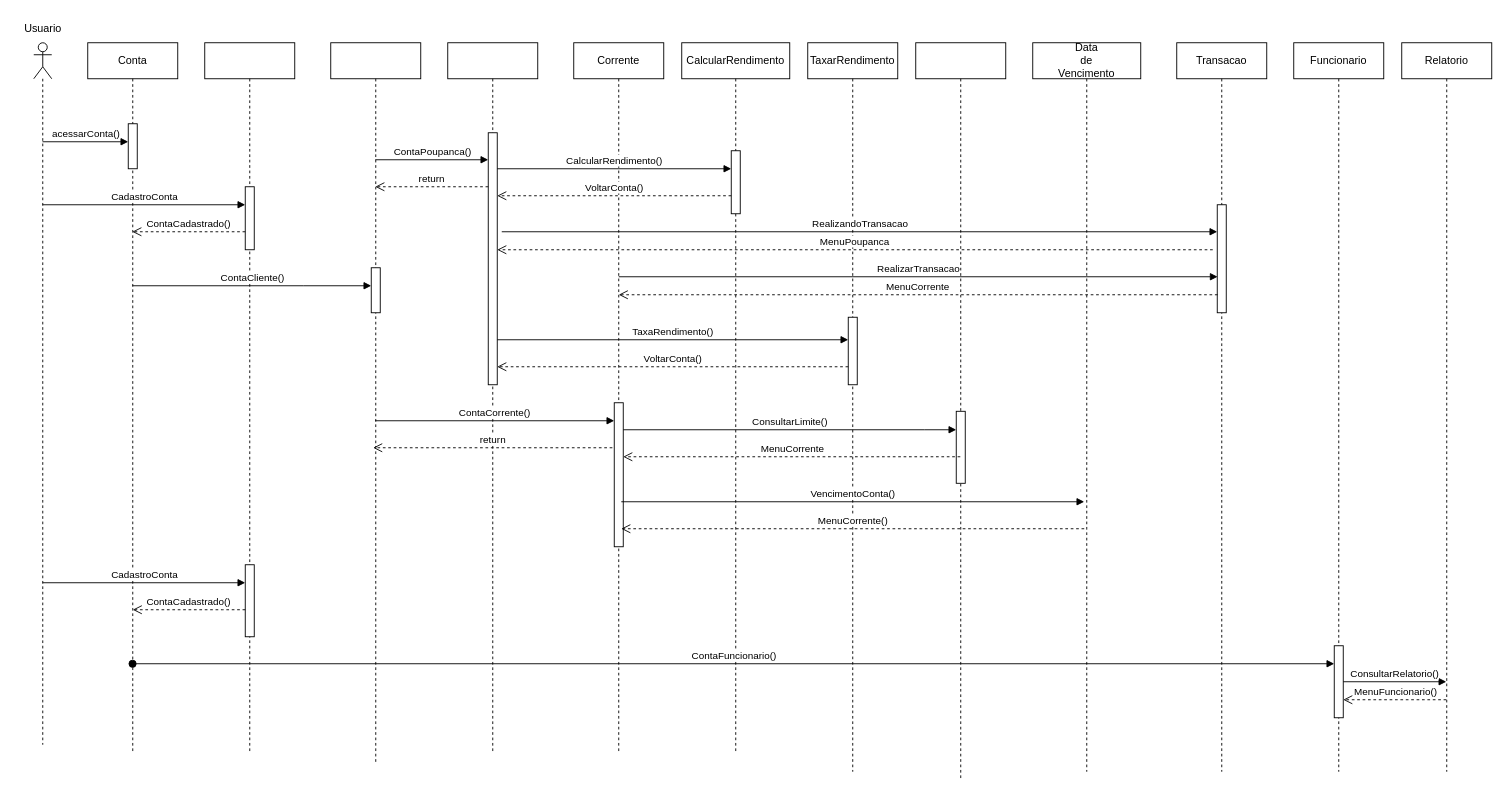
Some shapes in this 1508 by 797 pixel diagram are drawn without their labels. Here are the shapes that lost their labels. From the top down, the box of each, then its label:
(204, 42, 295, 754): CriarConta
(330, 42, 421, 763): Cliente
(447, 42, 538, 754): Poupanca
(915, 42, 1006, 781): Limite
